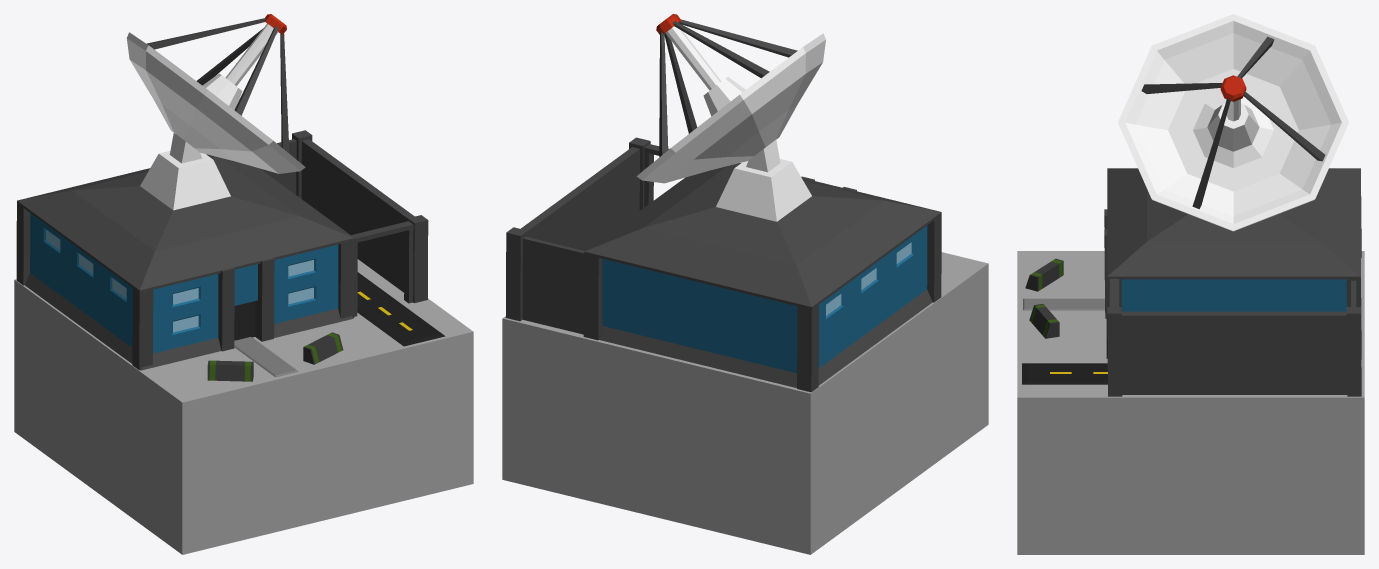
The model's file is Comms.fbx.
3 views of the same model, side by side, from view 1: azimuth 30°, elevation 25°; view 2: azimuth 150°, elevation 25°; view 3: azimuth 270°, elevation 25° (orthographic). The views are drawn at different scales.
Parts seen in each view (by area): view 1: Comms; view 2: Comms; view 3: Comms.
Boxes of the visible parts, <box> form: Comms: <box>14,14,473,554</box>; Comms: <box>502,14,988,554</box>; Comms: <box>1017,14,1364,554</box>.
Bounding box in the file's own units: 200 × 273 × 200.
Materials: 1 (1 with a texture image).
